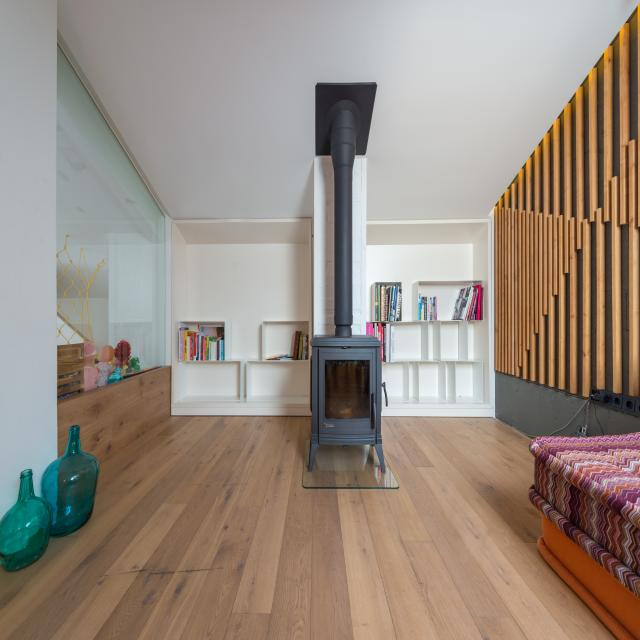floor: (0, 416, 620, 640)
wall: (494, 0, 640, 402), (187, 243, 309, 396), (57, 366, 171, 464), (366, 244, 473, 321), (493, 373, 589, 440), (314, 158, 336, 336), (473, 223, 490, 404), (351, 158, 367, 335), (174, 224, 187, 403), (418, 283, 473, 320), (251, 361, 309, 396), (187, 362, 240, 396), (266, 321, 309, 358), (594, 403, 640, 436), (390, 322, 421, 360), (381, 362, 403, 397), (441, 321, 459, 359), (419, 362, 438, 397), (586, 402, 604, 437), (455, 362, 473, 397), (473, 362, 483, 402), (447, 361, 456, 402), (459, 321, 468, 361), (438, 361, 446, 402), (433, 321, 441, 361), (179, 361, 187, 400), (421, 321, 428, 360), (412, 362, 419, 401), (240, 359, 246, 401), (225, 320, 231, 362), (468, 321, 474, 361), (412, 281, 418, 321), (403, 362, 409, 401), (428, 321, 433, 360), (262, 321, 266, 361), (409, 362, 413, 397), (188, 324, 198, 332), (473, 281, 483, 287), (382, 386, 385, 397)
